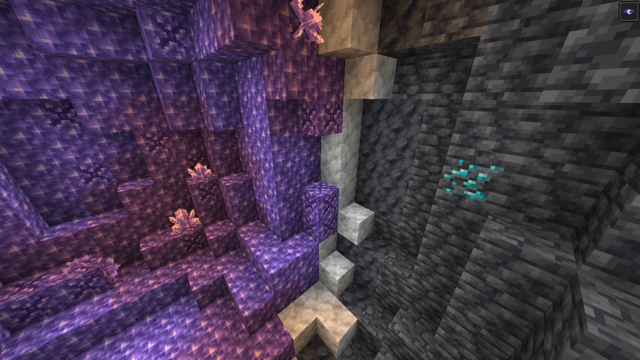diamond: (440, 151, 503, 205)
